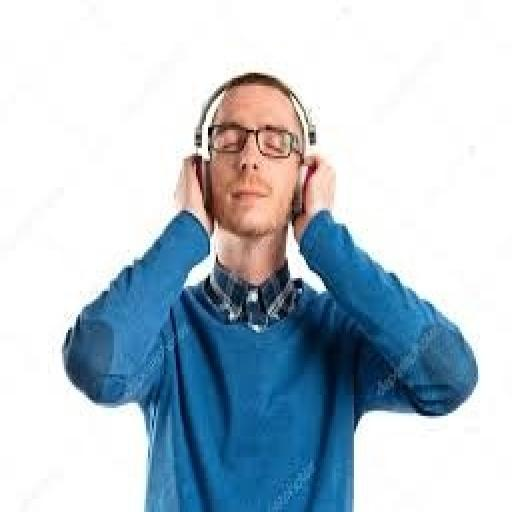listening_to_music: (60, 68, 482, 510)
